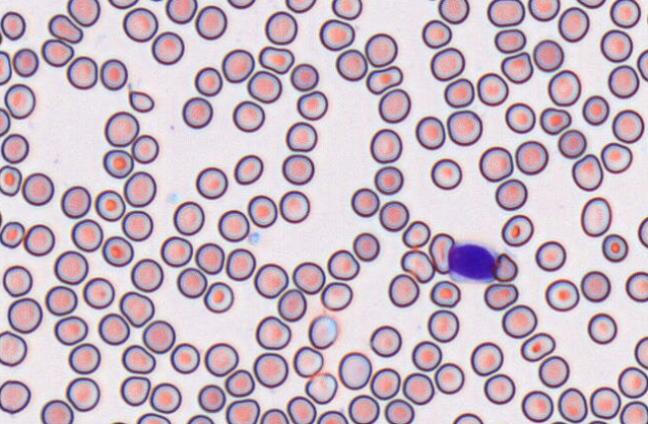MONO: (448, 240, 508, 286)
RBC: (446, 109, 482, 145), (119, 290, 154, 327), (122, 7, 158, 42), (7, 297, 42, 333), (104, 110, 139, 146), (253, 352, 288, 388), (547, 69, 581, 106), (338, 351, 371, 389), (580, 196, 611, 236), (65, 376, 100, 411), (253, 263, 288, 298), (478, 146, 513, 181), (255, 315, 291, 349), (501, 304, 537, 338), (123, 170, 156, 207), (571, 153, 603, 191), (53, 250, 88, 284), (430, 47, 465, 81), (204, 342, 238, 376), (151, 30, 184, 65), (470, 341, 503, 376), (221, 48, 254, 83), (364, 32, 397, 67), (369, 128, 402, 163), (515, 140, 548, 175), (544, 278, 579, 311), (557, 6, 589, 42), (142, 319, 175, 353), (194, 5, 227, 39), (70, 218, 103, 252), (247, 70, 281, 103), (264, 10, 297, 44), (130, 258, 163, 292), (319, 18, 354, 50), (172, 200, 204, 235), (378, 88, 410, 123), (4, 83, 35, 119), (97, 312, 130, 345), (21, 172, 54, 205), (292, 261, 325, 294), (195, 166, 228, 199), (476, 72, 508, 106), (607, 64, 639, 98), (612, 109, 644, 143), (520, 331, 555, 362), (47, 13, 83, 43), (23, 223, 55, 256), (304, 372, 337, 404), (500, 51, 533, 83), (335, 48, 367, 81), (82, 276, 114, 309), (520, 390, 553, 422), (217, 209, 249, 242), (369, 324, 401, 357), (600, 29, 632, 62), (494, 178, 527, 210), (427, 309, 459, 342), (281, 153, 314, 185), (500, 214, 533, 246), (0, 379, 31, 413), (388, 273, 419, 307), (66, 55, 97, 89), (53, 315, 88, 345), (557, 387, 587, 422), (258, 45, 294, 74), (486, 0, 524, 27), (68, 342, 100, 374), (402, 372, 434, 404), (532, 39, 564, 71), (101, 235, 133, 267), (160, 235, 192, 267), (121, 209, 153, 241), (232, 100, 264, 132), (430, 158, 462, 190), (60, 185, 91, 218), (538, 355, 569, 388), (589, 386, 620, 419), (279, 190, 310, 223), (121, 344, 155, 374), (225, 247, 255, 281), (415, 115, 445, 149), (308, 314, 337, 349), (94, 189, 125, 221), (483, 373, 515, 404), (369, 367, 400, 399), (169, 342, 200, 374), (327, 249, 359, 280), (149, 382, 181, 413), (285, 121, 317, 152), (181, 96, 212, 128), (600, 142, 632, 173), (276, 288, 306, 321), (247, 194, 277, 227), (483, 282, 518, 310), (0, 330, 27, 366), (119, 375, 150, 406), (176, 267, 207, 298), (292, 346, 323, 377), (504, 102, 535, 133), (411, 340, 442, 371), (378, 200, 409, 231), (535, 240, 566, 271), (434, 362, 464, 394), (2, 264, 32, 296), (45, 285, 77, 315), (203, 281, 233, 313), (320, 281, 352, 311), (617, 366, 647, 398), (587, 312, 617, 344), (194, 242, 224, 274), (580, 270, 610, 302), (102, 148, 133, 178), (443, 77, 474, 107), (296, 90, 327, 120), (539, 106, 571, 135), (41, 38, 73, 67), (347, 394, 379, 423), (233, 154, 263, 184), (99, 58, 127, 90), (609, 0, 641, 28), (224, 368, 254, 397), (421, 19, 451, 48), (0, 133, 29, 163), (557, 128, 586, 158), (373, 165, 403, 194), (350, 187, 379, 217), (67, 0, 100, 26), (225, 398, 259, 423), (401, 219, 430, 248), (290, 62, 319, 91), (130, 134, 159, 163), (194, 66, 222, 96), (286, 395, 316, 423), (582, 94, 609, 125), (429, 280, 460, 307), (494, 28, 526, 53), (40, 399, 73, 423), (197, 384, 225, 412), (601, 233, 628, 262), (352, 232, 379, 261), (12, 47, 38, 77), (437, 0, 469, 24), (384, 398, 414, 423), (165, 0, 197, 23), (0, 11, 25, 40), (527, 0, 560, 21), (625, 271, 647, 302), (0, 221, 25, 248), (0, 164, 21, 196), (619, 400, 647, 423), (331, 0, 362, 20), (259, 408, 289, 423), (634, 336, 647, 369), (0, 50, 12, 85), (316, 410, 348, 423), (285, 0, 316, 13), (136, 412, 171, 423), (636, 48, 647, 81), (452, 412, 483, 423), (637, 216, 647, 248), (0, 107, 10, 136), (107, 0, 138, 9), (576, 0, 605, 9), (186, 414, 214, 423), (227, 0, 255, 9), (585, 419, 608, 423), (548, 420, 569, 424), (107, 420, 127, 424), (145, 0, 164, 1)
Schistocyte: (400, 249, 435, 285), (430, 233, 455, 274), (494, 253, 519, 283), (128, 89, 154, 114)
